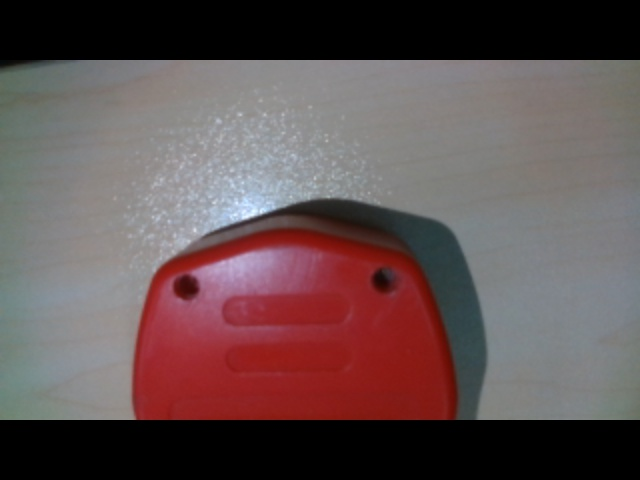Screw holes: (368, 262, 404, 298), (171, 273, 202, 303)
